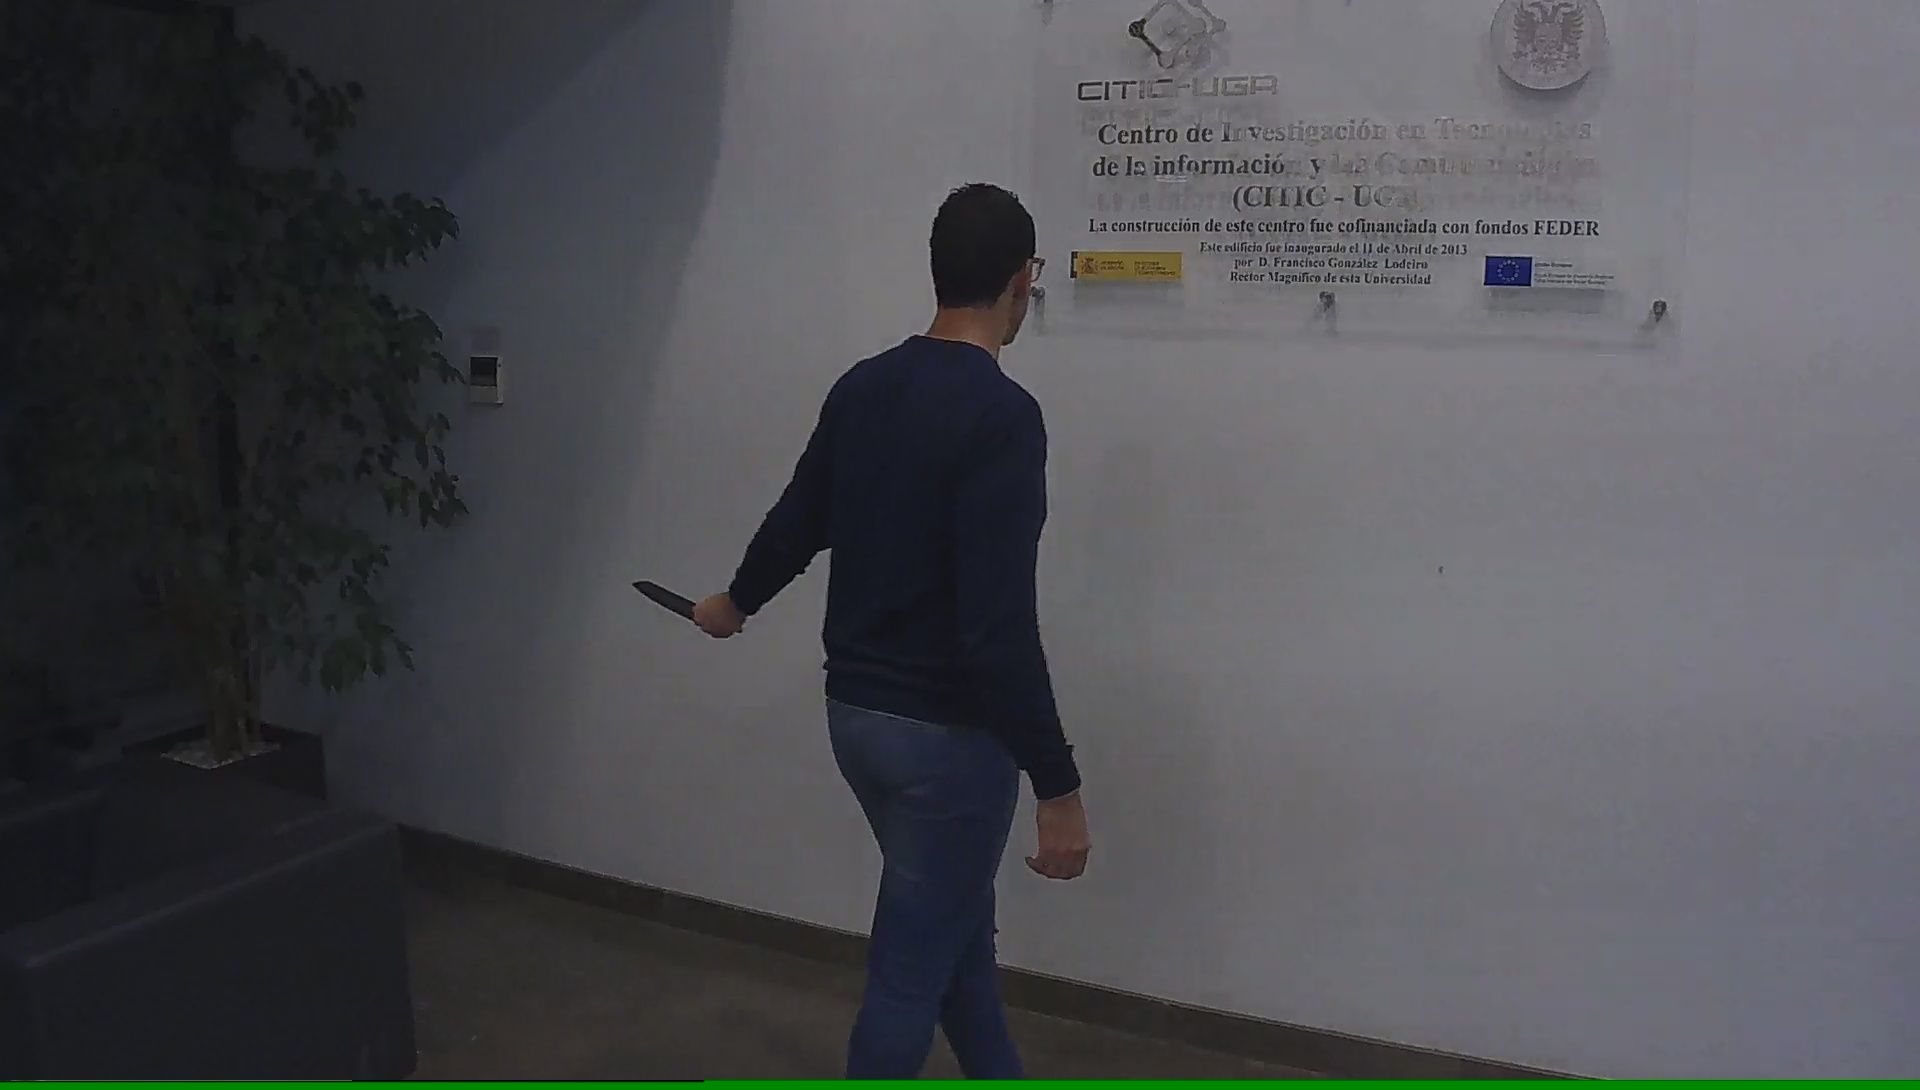knife: (628, 571, 727, 643)
